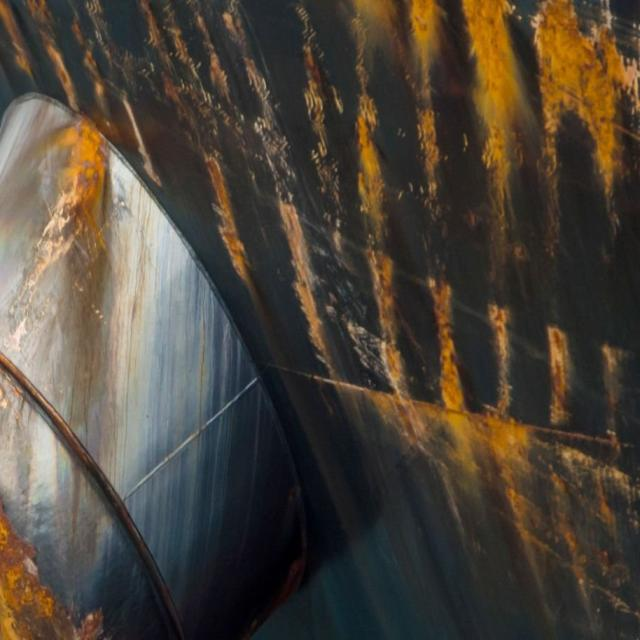Uniform Corrosion: (338, 383, 639, 639), (533, 0, 625, 279), (356, 50, 413, 396), (26, 115, 111, 286), (0, 498, 102, 639), (462, 0, 523, 207), (279, 200, 335, 375), (204, 150, 252, 291), (428, 277, 466, 409), (417, 100, 447, 219), (39, 26, 78, 110), (410, 0, 440, 90), (487, 304, 511, 416), (547, 326, 569, 424), (306, 79, 321, 134), (39, 0, 45, 16)
